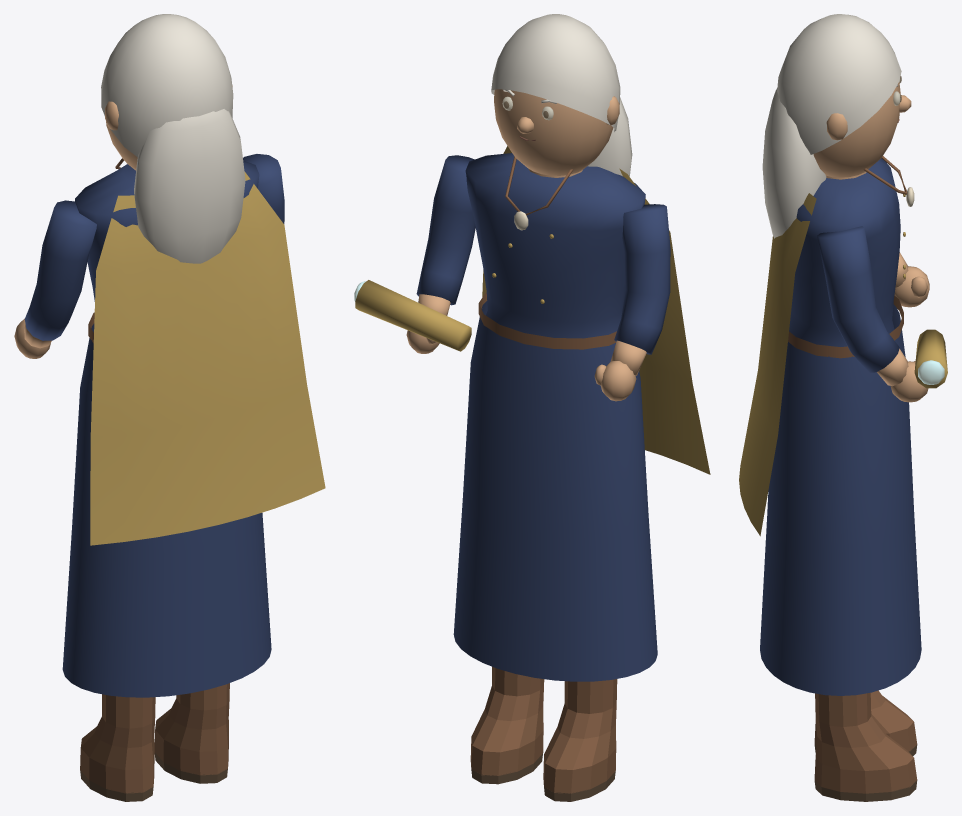
Rendered from SM_NPC_ESTRELLA.glb.
The picture shows the model from 3 angles, left to right: view 1: azimuth 30°, elevation 25°; view 2: azimuth 150°, elevation 25°; view 3: azimuth 270°, elevation 25°; orthographic projection. The views are drawn at different scales.
Parts seen in each view (by area): view 1: SM_NPC_ESTRELLA_BODY, SM_NPC_ESTRELLA_HAIR, SM_NPC_ESTRELLA_ARM_L, SM_NPC_ESTRELLA_LEG_L, SM_NPC_ESTRELLA_LEG_R, SM_NPC_ESTRELLA_ARM_R, SM_NPC_ESTRELLA_HEAD; view 2: SM_NPC_ESTRELLA_BODY, SM_NPC_ESTRELLA_HAIR, SM_NPC_ESTRELLA_ARM_R, SM_NPC_ESTRELLA_ARM_L, SM_NPC_ESTRELLA_LEG_L, SM_NPC_ESTRELLA_HEAD, SM_NPC_ESTRELLA_LEG_R; view 3: SM_NPC_ESTRELLA_BODY, SM_NPC_ESTRELLA_HAIR, SM_NPC_ESTRELLA_ARM_R, SM_NPC_ESTRELLA_LEG_R, SM_NPC_ESTRELLA_HEAD, SM_NPC_ESTRELLA_LEG_L, SM_NPC_ESTRELLA_ARM_L.
Part boxes in pixels (box(x1,y1,x2,y2)): SM_NPC_ESTRELLA_BODY: box(62, 158, 325, 697); SM_NPC_ESTRELLA_HAIR: box(101, 14, 245, 263); SM_NPC_ESTRELLA_ARM_L: box(14, 200, 96, 358); SM_NPC_ESTRELLA_LEG_L: box(80, 694, 155, 801); SM_NPC_ESTRELLA_LEG_R: box(154, 683, 229, 783); SM_NPC_ESTRELLA_ARM_R: box(243, 154, 284, 223); SM_NPC_ESTRELLA_HEAD: box(105, 85, 232, 170); SM_NPC_ESTRELLA_BODY: box(453, 146, 710, 681); SM_NPC_ESTRELLA_HAIR: box(491, 14, 632, 176); SM_NPC_ESTRELLA_ARM_R: box(354, 155, 475, 353); SM_NPC_ESTRELLA_ARM_L: box(594, 204, 670, 401); SM_NPC_ESTRELLA_LEG_L: box(543, 679, 617, 801); SM_NPC_ESTRELLA_HEAD: box(494, 89, 619, 175); SM_NPC_ESTRELLA_LEG_R: box(470, 666, 544, 784); SM_NPC_ESTRELLA_BODY: box(739, 156, 921, 695); SM_NPC_ESTRELLA_HAIR: box(762, 14, 901, 238); SM_NPC_ESTRELLA_ARM_R: box(817, 226, 947, 402); SM_NPC_ESTRELLA_LEG_R: box(814, 692, 917, 801); SM_NPC_ESTRELLA_HEAD: box(813, 82, 911, 177); SM_NPC_ESTRELLA_LEG_L: box(814, 690, 917, 755); SM_NPC_ESTRELLA_ARM_L: box(894, 252, 929, 307).
Bounding box in the file's own units: 0.6901 × 1.81 × 0.4561.
